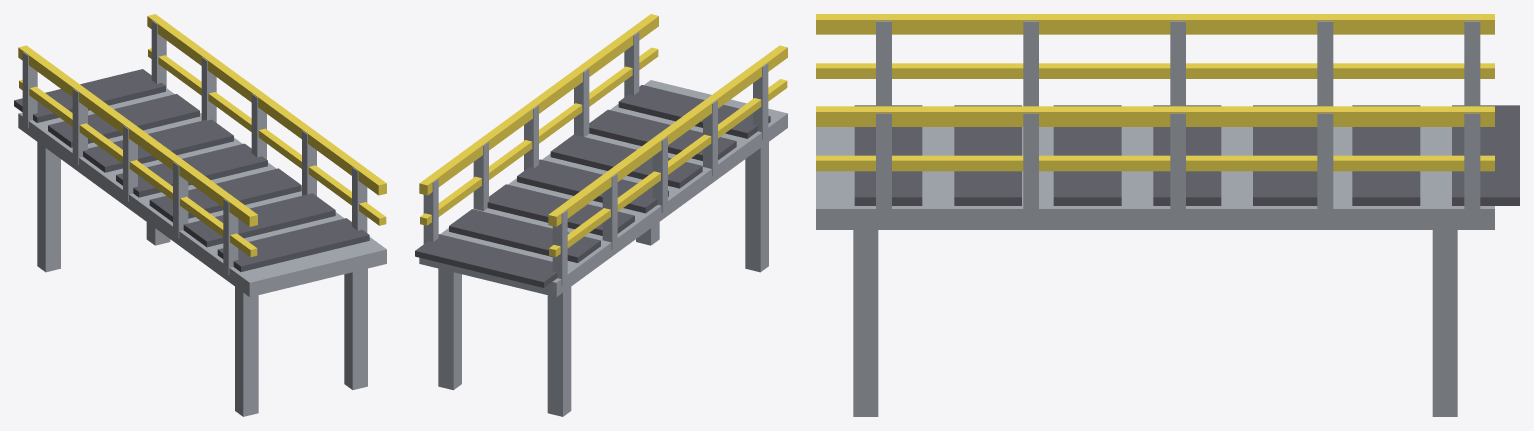
File: bridge.glb
The picture shows the model from 3 angles, left to right: view 1: azimuth 30°, elevation 25°; view 2: azimuth 150°, elevation 25°; view 3: azimuth 270°, elevation 25°; orthographic projection. The views are drawn at different scales.
Visible parts, largest first — view 1: bridge; view 2: bridge; view 3: bridge.
Part boxes in pixels (<box>): bridge: <box>14,14,386,416</box>; bridge: <box>415,14,787,416</box>; bridge: <box>816,14,1519,416</box>.
Size of the model in its own units: 1 by 1.45 by 3.
